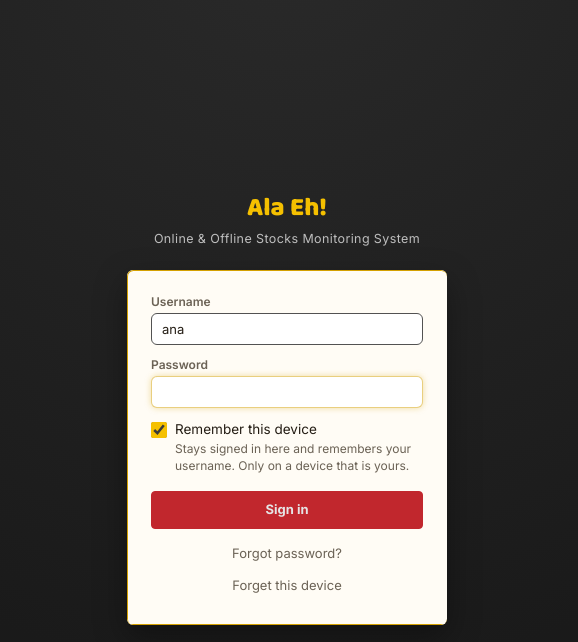
LoginPage remember this device › 'Forget this device' clears the username, the tick and the stored choice
The width and height of the screenshot is (578, 642).
Click the button "Forget this device".
click(287, 584)  # box [224,568,350,600]
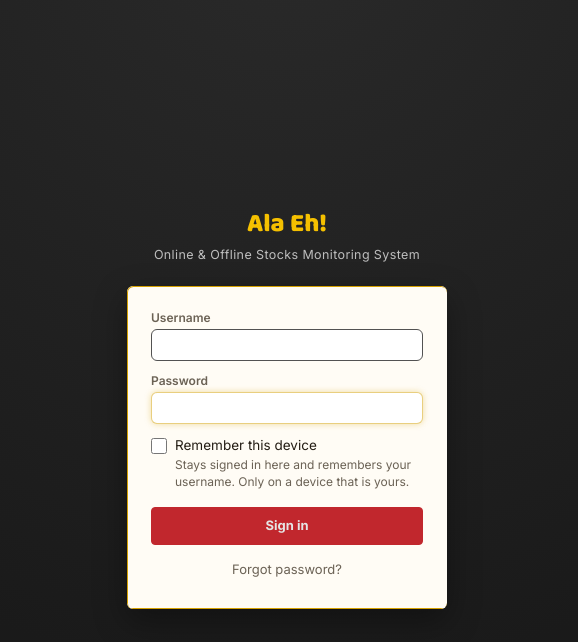
Expected: the field is empty, [151,330,423,362]
Expected: the checkbox is not checked, [151,438,167,454]
